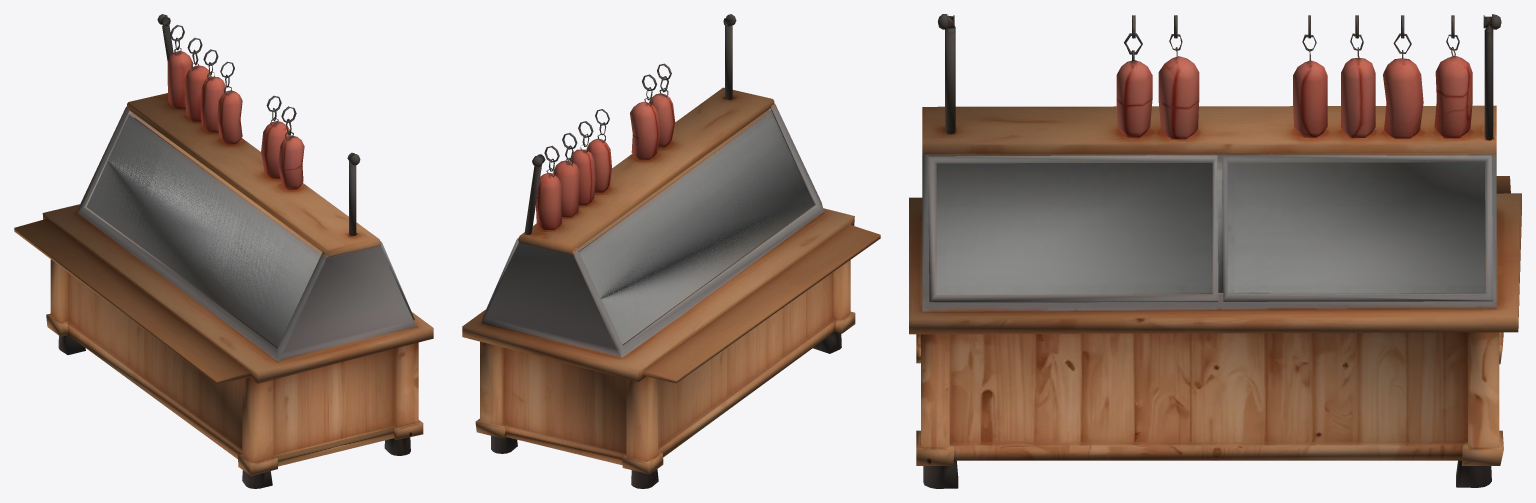
3 renders of one model, left to right at view 1: azimuth 30°, elevation 25°; view 2: azimuth 150°, elevation 25°; view 3: azimuth 270°, elevation 25°, orthographic. The views are drawn at different scales.
Visible parts, largest first — view 1: tripo_node_fd5d5f86-fef8-44b3-8c90-4b365328a84a; view 2: tripo_node_fd5d5f86-fef8-44b3-8c90-4b365328a84a; view 3: tripo_node_fd5d5f86-fef8-44b3-8c90-4b365328a84a.
Boxes of the visible parts, left/top/right/bottom form: tripo_node_fd5d5f86-fef8-44b3-8c90-4b365328a84a: left=14, top=14, right=433, bottom=488; tripo_node_fd5d5f86-fef8-44b3-8c90-4b365328a84a: left=462, top=14, right=880, bottom=488; tripo_node_fd5d5f86-fef8-44b3-8c90-4b365328a84a: left=909, top=14, right=1521, bottom=488.
Bounding box in the file's own units: 0.5645 × 0.7871 × 0.998.
1 material, 1 textured.
